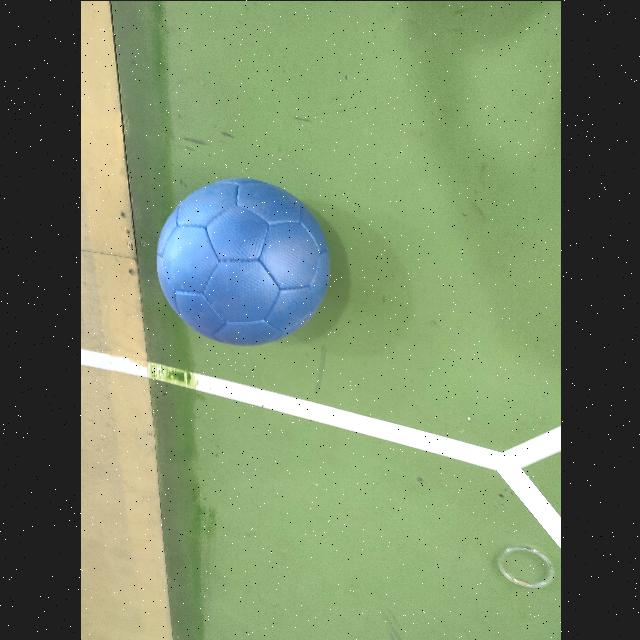B: (156, 179, 328, 345)
